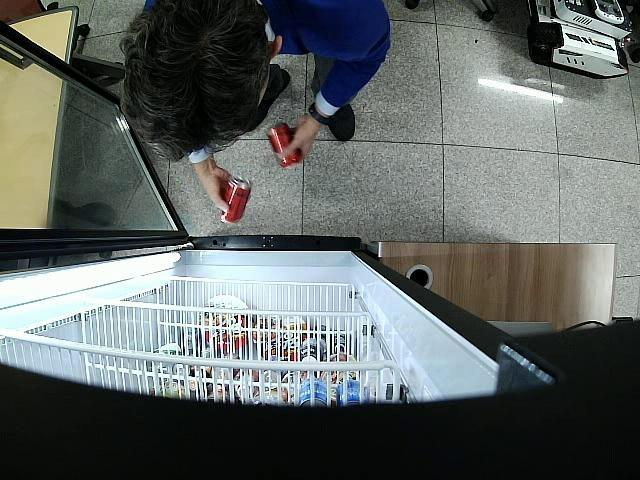11_cocaColaZero: (267, 122, 303, 168), (221, 175, 252, 224)
